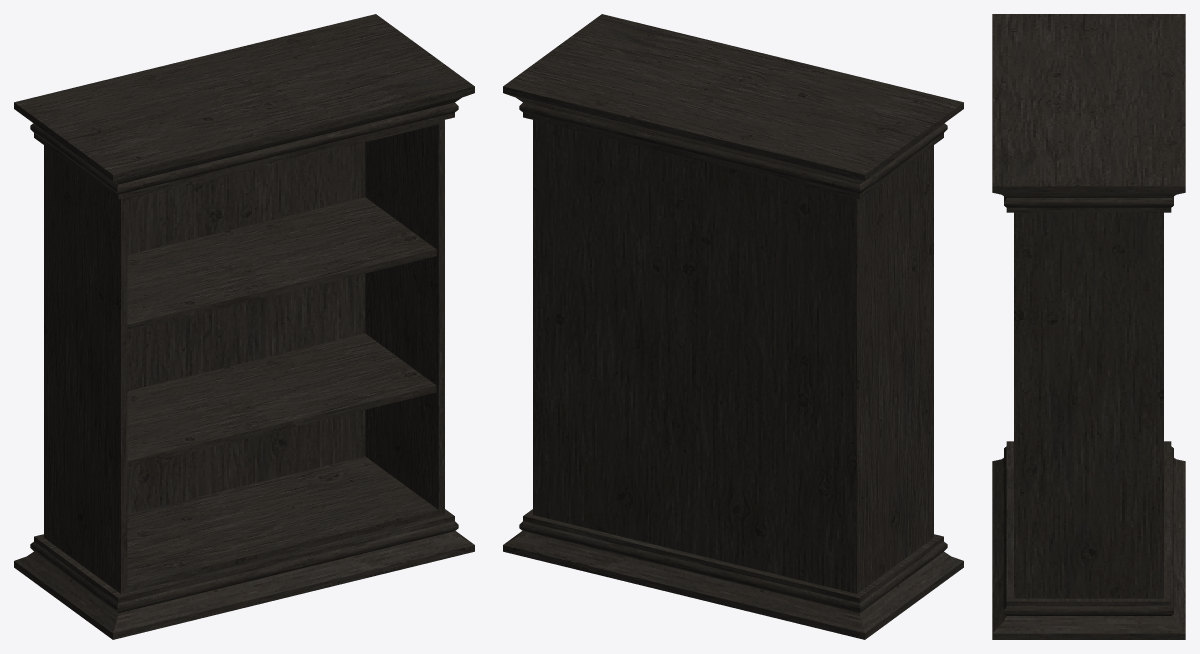
The model's file is shelf_mp_3.glb.
3 renders of one model, left to right at view 1: azimuth 30°, elevation 25°; view 2: azimuth 150°, elevation 25°; view 3: azimuth 270°, elevation 25°, orthographic. The views are drawn at different scales.
Visible parts, largest first — view 1: shelf_mp_3; view 2: shelf_mp_3; view 3: shelf_mp_3.
Part boxes in pixels (x1=…): shelf_mp_3: x1=14, y1=14, x2=474, y2=639; shelf_mp_3: x1=503, y1=14, x2=963, y2=639; shelf_mp_3: x1=992, y1=14, x2=1185, y2=639.
Size of the model in its own units: 1.14 by 1.4 by 0.54.
Materials: 1 (1 with a texture image).
